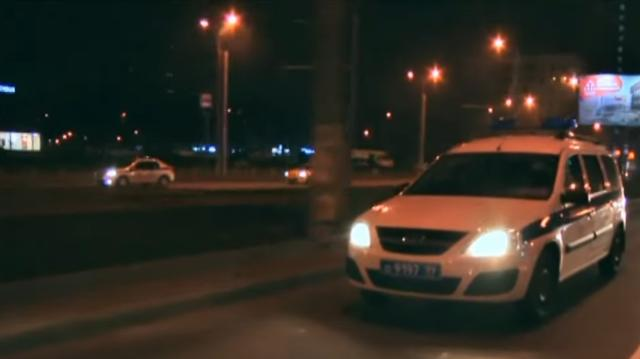non emergency car: (95, 156, 175, 188), (285, 154, 313, 186)
police car: (345, 117, 627, 323)
